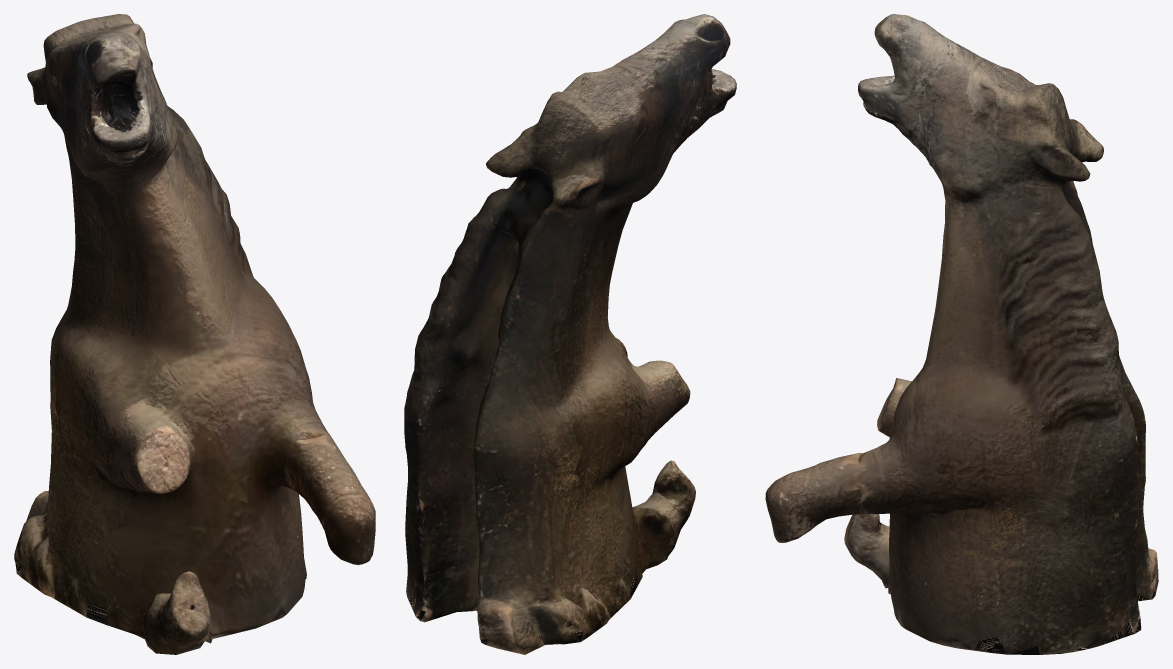
Rendered from 03_horse.glb.
The picture shows the model from 3 angles, left to right: view 1: azimuth 30°, elevation 25°; view 2: azimuth 150°, elevation 25°; view 3: azimuth 270°, elevation 25°; orthographic projection. The views are drawn at different scales.
Parts seen in each view (by area): view 1: Mesh_0; view 2: Mesh_0; view 3: Mesh_0.
Part boxes in pixels (x1,y1,x2,y2): Mesh_0: [14, 14, 375, 654]; Mesh_0: [404, 14, 736, 654]; Mesh_0: [765, 14, 1158, 654].
Size of the model in its own units: 0.8944 by 2 by 1.32.
Materials: 4 (4 with a texture image).
